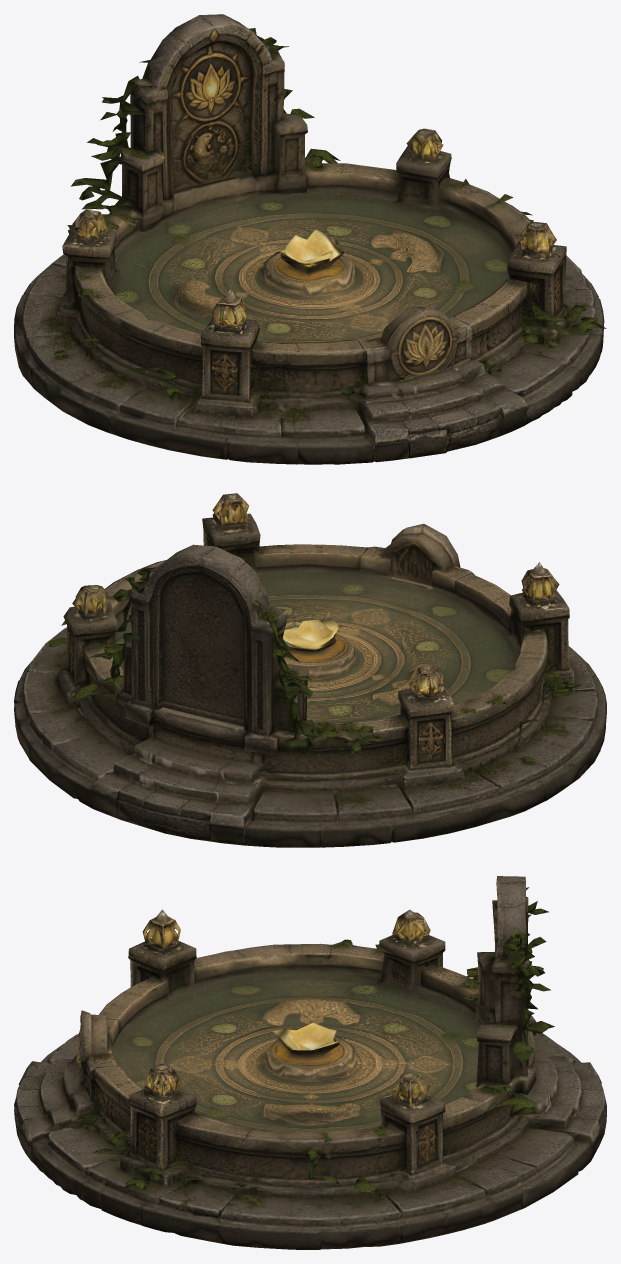
The model's file is tripo_convert_20c282f6-6017-415f-be17-e97b3d8c9ece.fbx.
3 renders of one model, top to bottom at view 1: azimuth 30°, elevation 25°; view 2: azimuth 150°, elevation 25°; view 3: azimuth 270°, elevation 25°, orthographic.
Parts seen in each view (by area): view 1: tripo_node_20c282f6; view 2: tripo_node_20c282f6; view 3: tripo_node_20c282f6.
Boxes of the visible parts, box(x1,y1,x2,y2) form: tripo_node_20c282f6: box(14, 14, 606, 464); tripo_node_20c282f6: box(14, 493, 606, 847); tripo_node_20c282f6: box(14, 876, 606, 1249).
Size of the model in its own units: 0.9781 by 0.4436 by 0.9794.
1 material, 1 textured.
